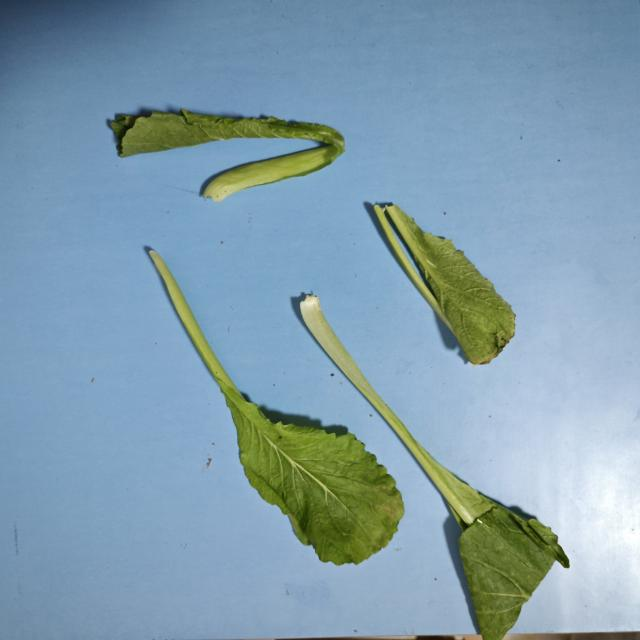-Kitchen waste - vegetable roots and leaves-: (302, 294, 582, 640), (144, 246, 403, 568), (368, 200, 515, 368), (111, 106, 347, 198)
